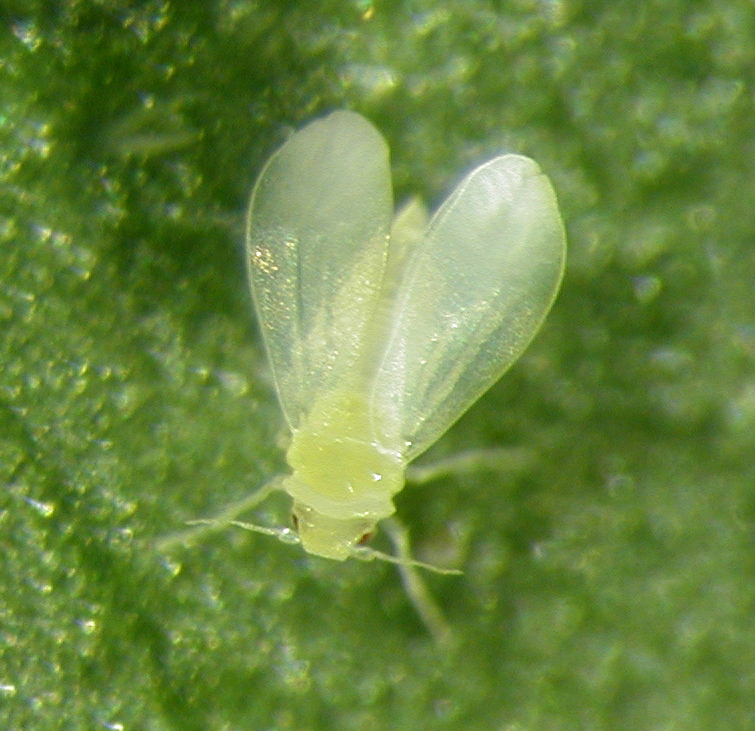Tobacco Whitefly: (111, 70, 583, 619)
